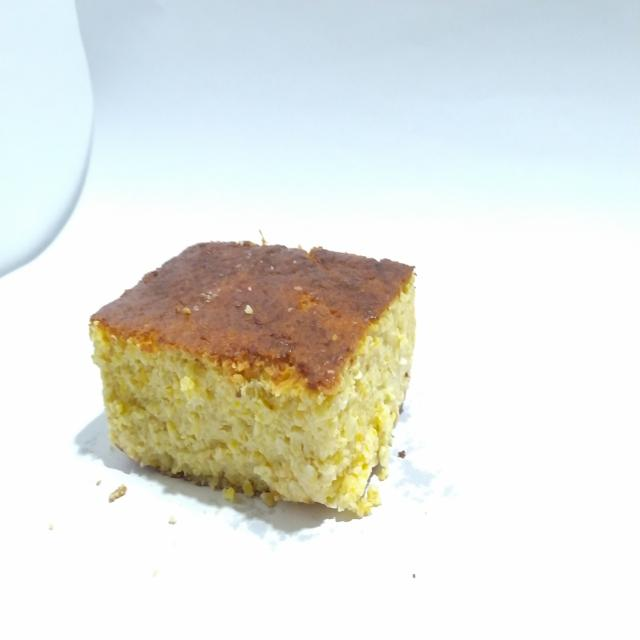Food: (70, 222, 433, 537)
